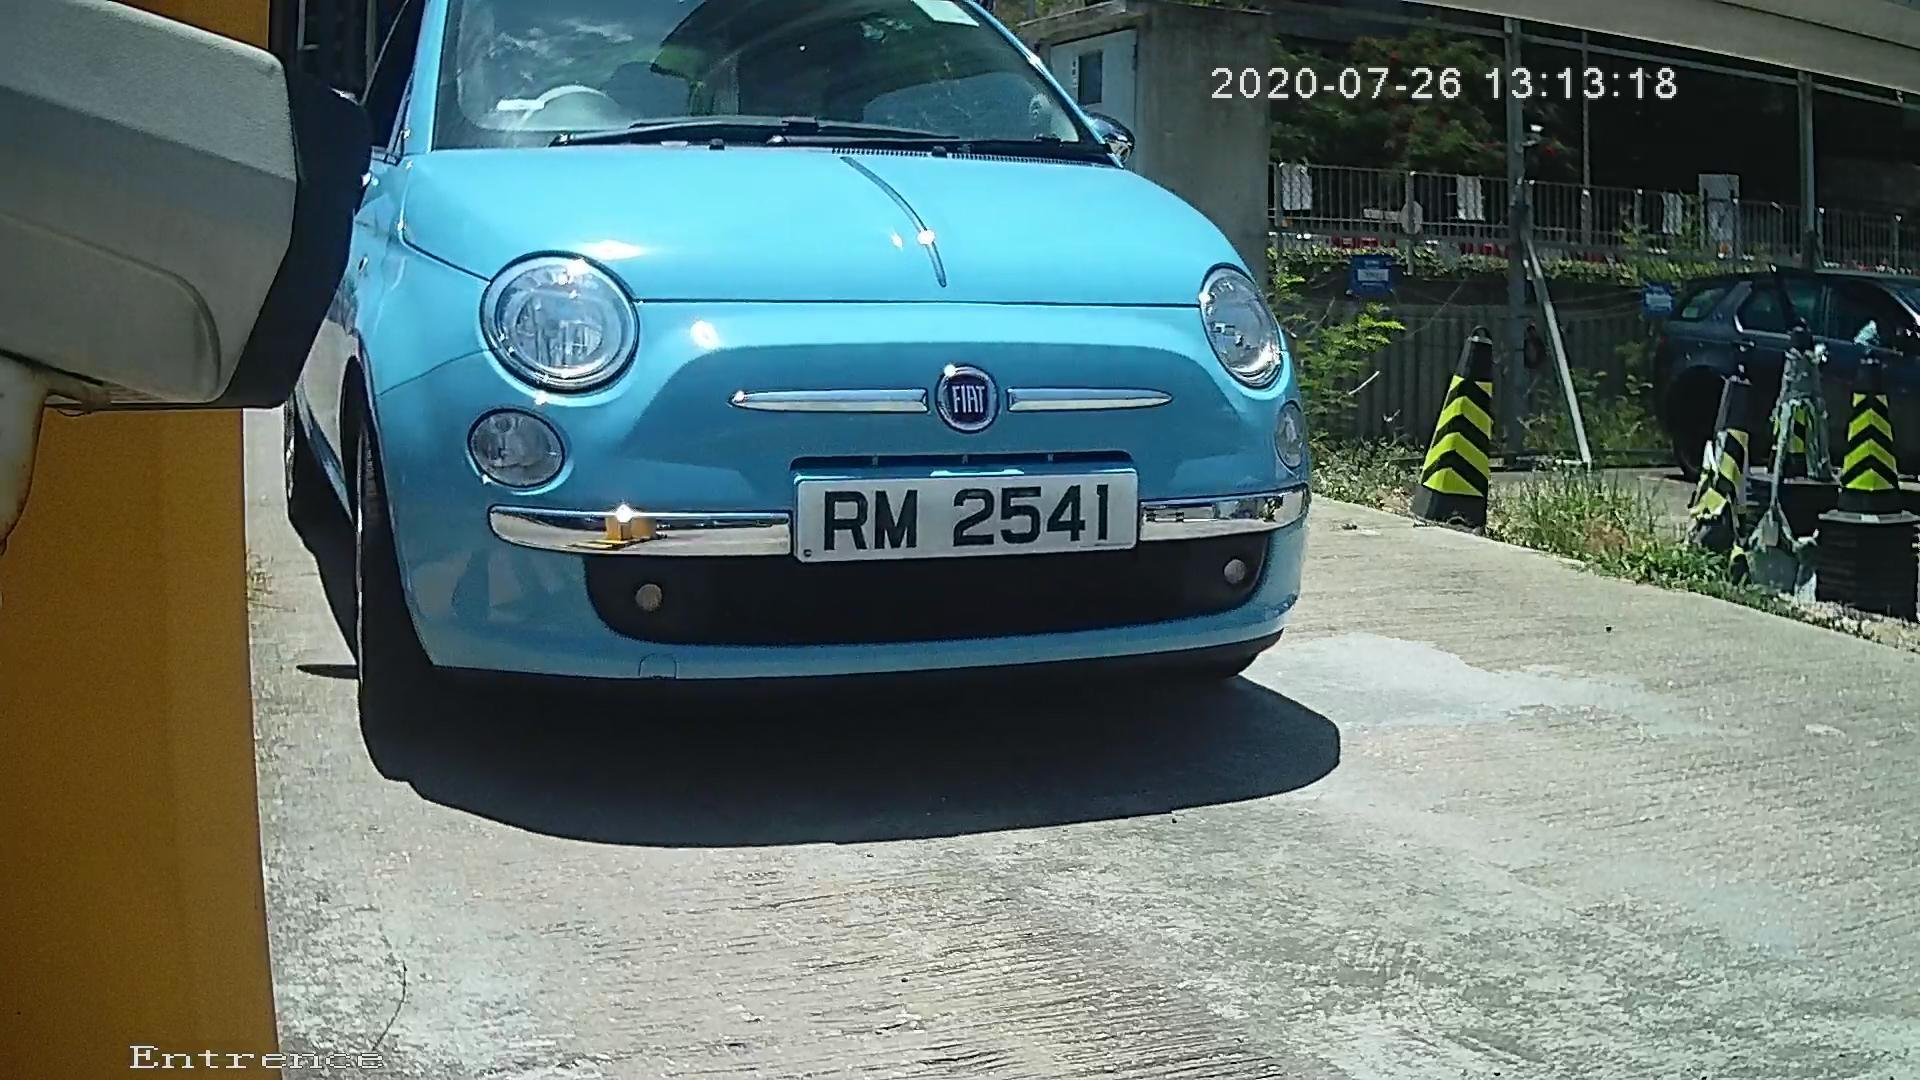privatecar: (206, 5, 1476, 796)
